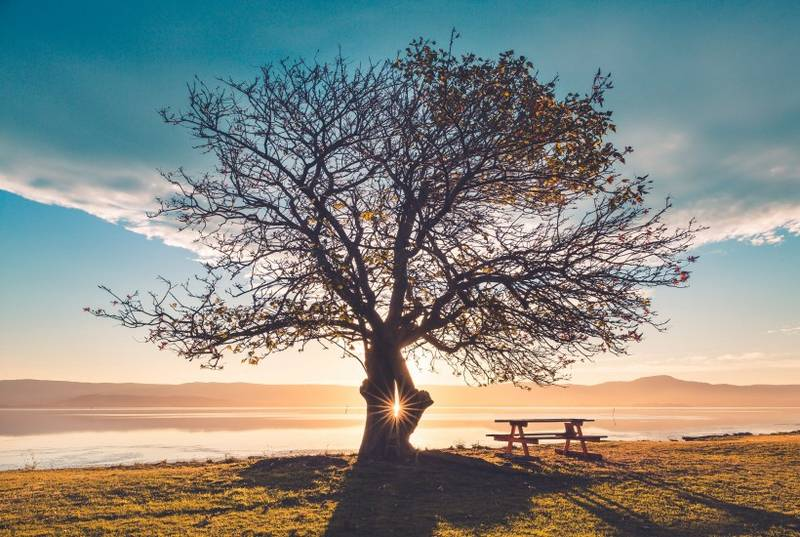tree: (82, 25, 712, 463)
